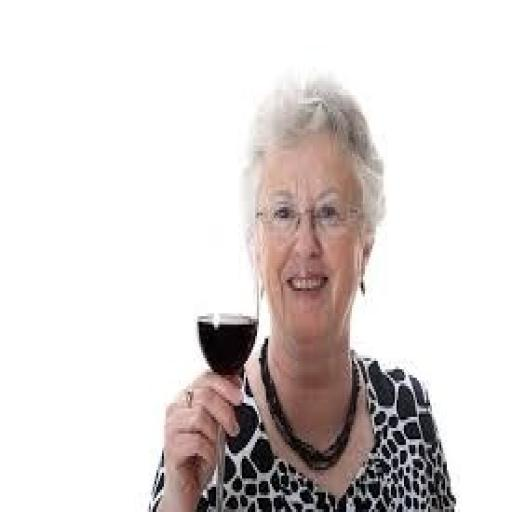drinking: (194, 232, 260, 509)
